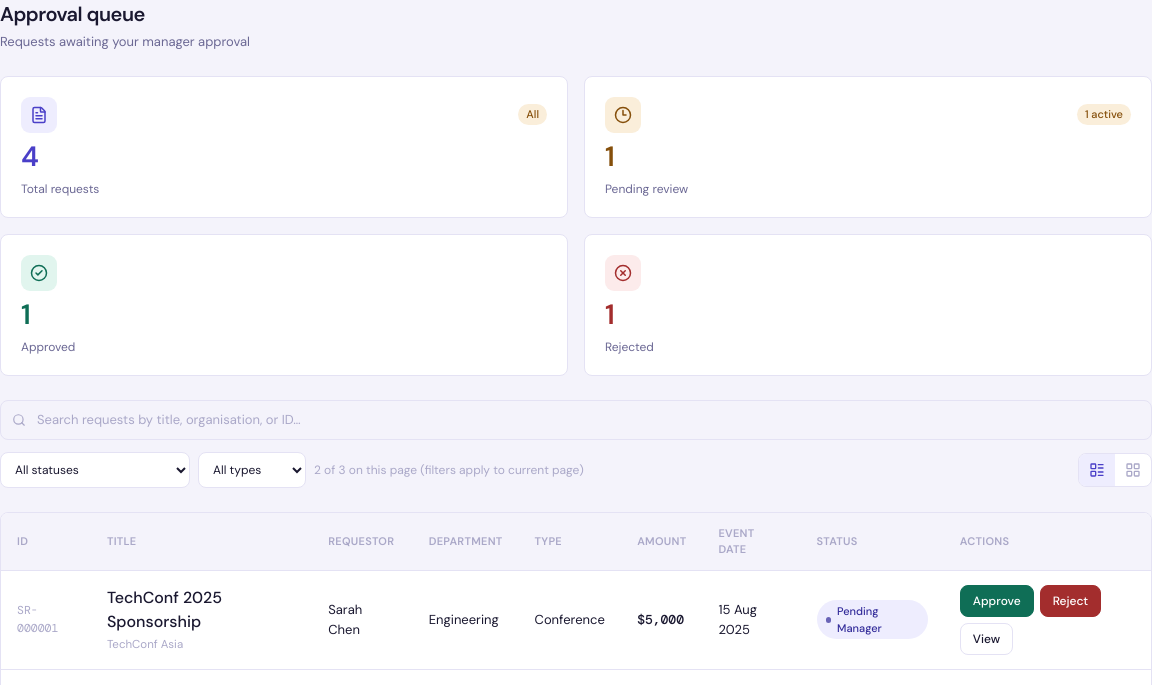
it: ApproverDashboard › requires remarks when rejecting via modal
Expected: the link "TechConf 2025 Sponsorship" is shown, [107,587,222,632]
Click the button "Reject": (1070, 600) [1040,584,1101,616]
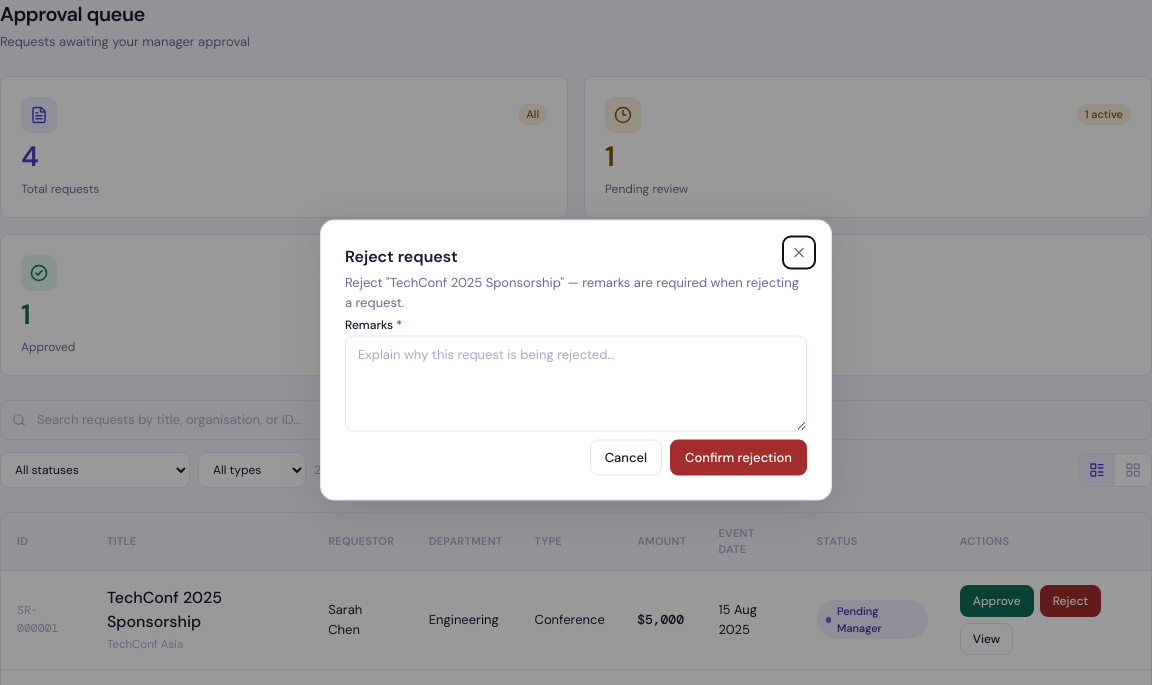
Result: the dialog is shown at [320,220,832,500]
Click the button "Confirm rejection": (739, 458) [670,440,807,476]
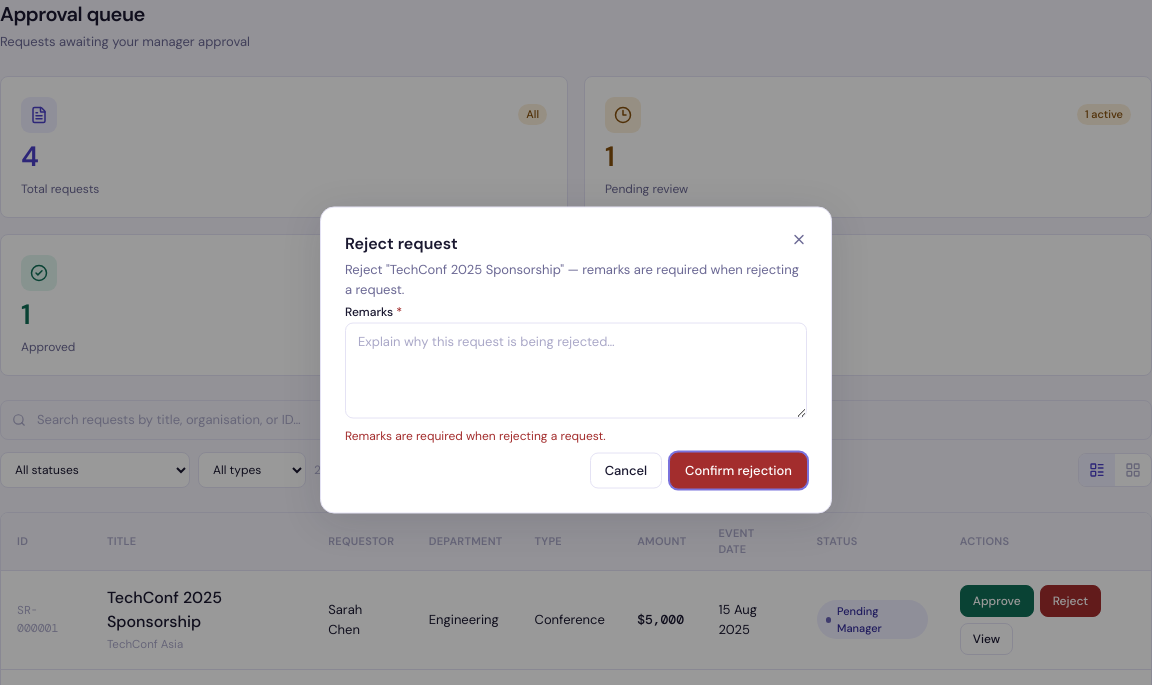
Result: the message reads "Remarks are required when rejecting a request." at [345,428,606,444]
